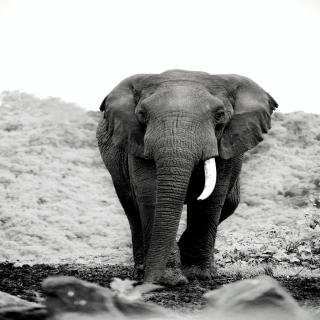Elephant: (92, 64, 281, 296)
